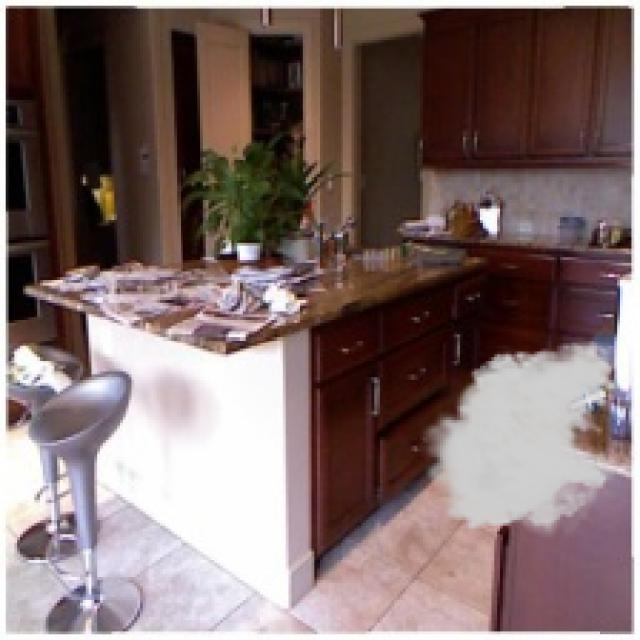smoke: (417, 340, 620, 543)
